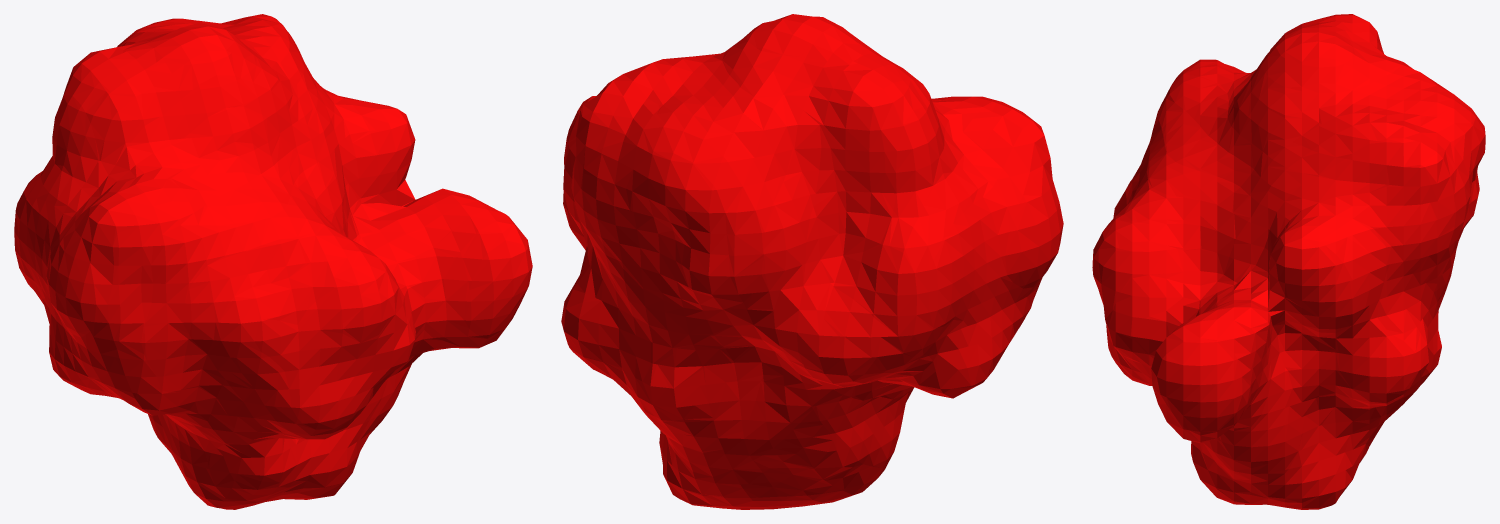
File: fabH_coarse.dae
3 views of the same model, side by side, from view 1: azimuth 30°, elevation 25°; view 2: azimuth 150°, elevation 25°; view 3: azimuth 270°, elevation 25° (orthographic). The views are drawn at different scales.
Parts seen in each view (by area): view 1: fabH; view 2: fabH; view 3: fabH.
Boxes of the visible parts, x1=… form: fabH: x1=14, y1=14, x2=532, y2=509; fabH: x1=561, y1=14, x2=1063, y2=509; fabH: x1=1092, y1=14, x2=1485, y2=509.
Bounding box in the file's own units: 60.72 × 59.22 × 48.57.
